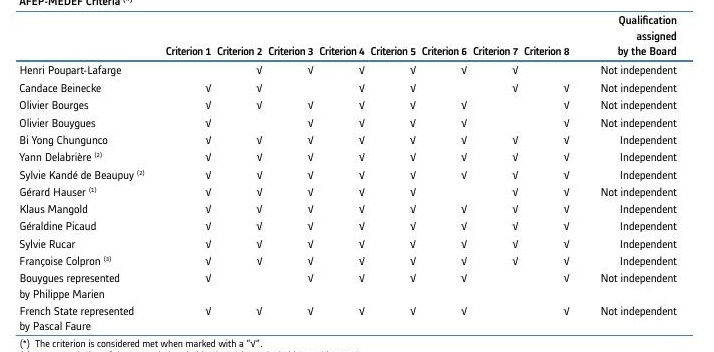table: (0, 0, 714, 352)
